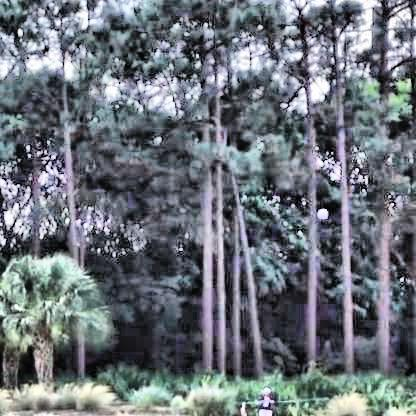golfball: (314, 206, 325, 216)
